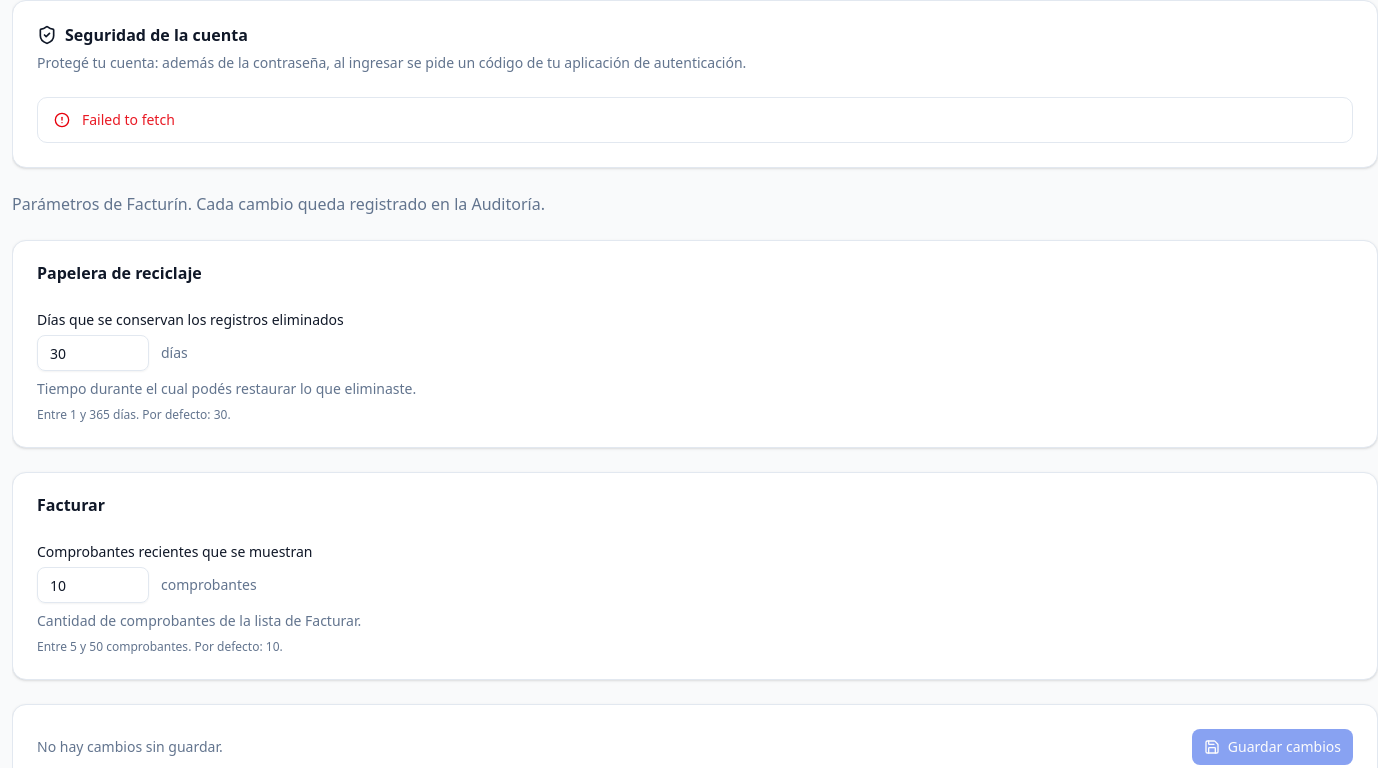
Test: Configuración › muestra el error de la API al guardar
Replace the text in the number field labelled "Comprobantes recientes que se muestran" with "20" at (93, 585), box [37,567,149,603]
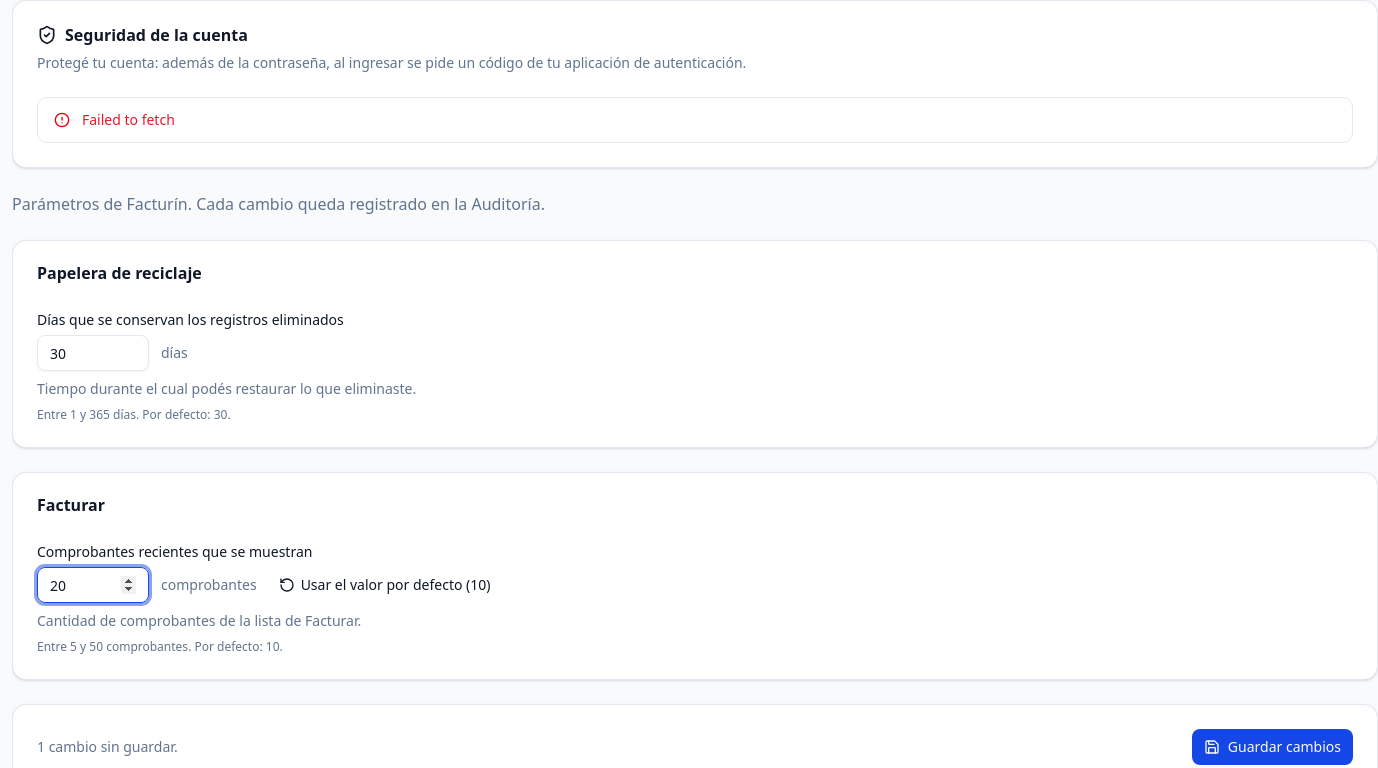
Click the button "Guardar cambios" at (1272, 747), box [1192,729,1353,765]
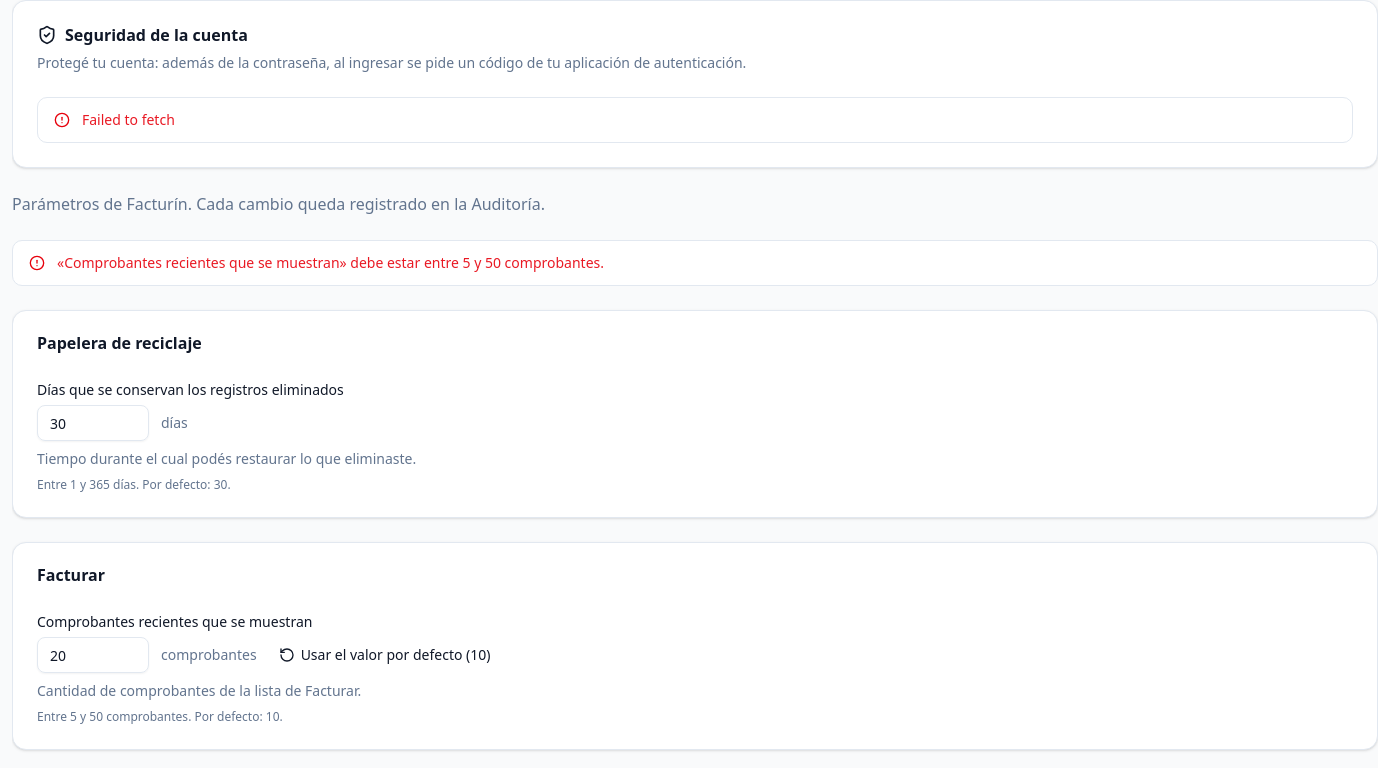
Expected: the text "debe estar entre 5 y 50 comprobantes" is shown, [57,253,604,272]
